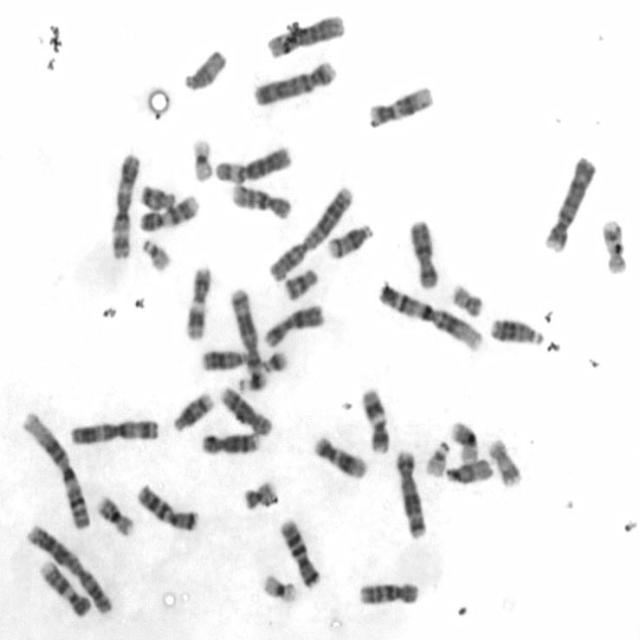A1: (20, 412, 93, 529), (374, 282, 488, 346)
A2: (267, 184, 356, 285), (24, 521, 115, 616)
A3: (109, 153, 140, 260), (65, 417, 164, 446)
B4: (544, 153, 596, 254), (251, 60, 339, 109)
B5: (228, 285, 267, 386), (392, 449, 428, 539)
C10: (228, 182, 292, 223), (355, 579, 419, 608)
C11: (359, 386, 393, 457), (183, 265, 211, 341)
C12: (364, 82, 436, 130), (313, 431, 366, 481)
C6: (265, 13, 345, 60), (213, 147, 291, 184)
C7: (130, 481, 204, 534), (277, 517, 323, 590)
C8: (216, 384, 273, 436), (198, 431, 262, 457)
C9: (38, 557, 91, 614), (138, 190, 201, 235)
D13: (486, 314, 546, 346), (198, 346, 255, 372)
D14: (324, 221, 378, 262), (170, 390, 214, 435)
D15: (180, 50, 230, 94), (444, 457, 494, 486)
E16: (94, 496, 136, 536), (450, 418, 480, 467)
E17: (484, 436, 526, 490), (600, 214, 629, 276)
E18: (282, 266, 322, 302), (137, 183, 177, 212)
F19: (189, 137, 215, 184), (259, 573, 299, 603)
F20: (448, 282, 486, 318), (240, 478, 280, 512)
G21: (235, 372, 268, 394), (260, 350, 288, 374)
G22: (140, 236, 172, 273), (424, 438, 452, 478)
X: (260, 304, 324, 348), (407, 217, 439, 291)
